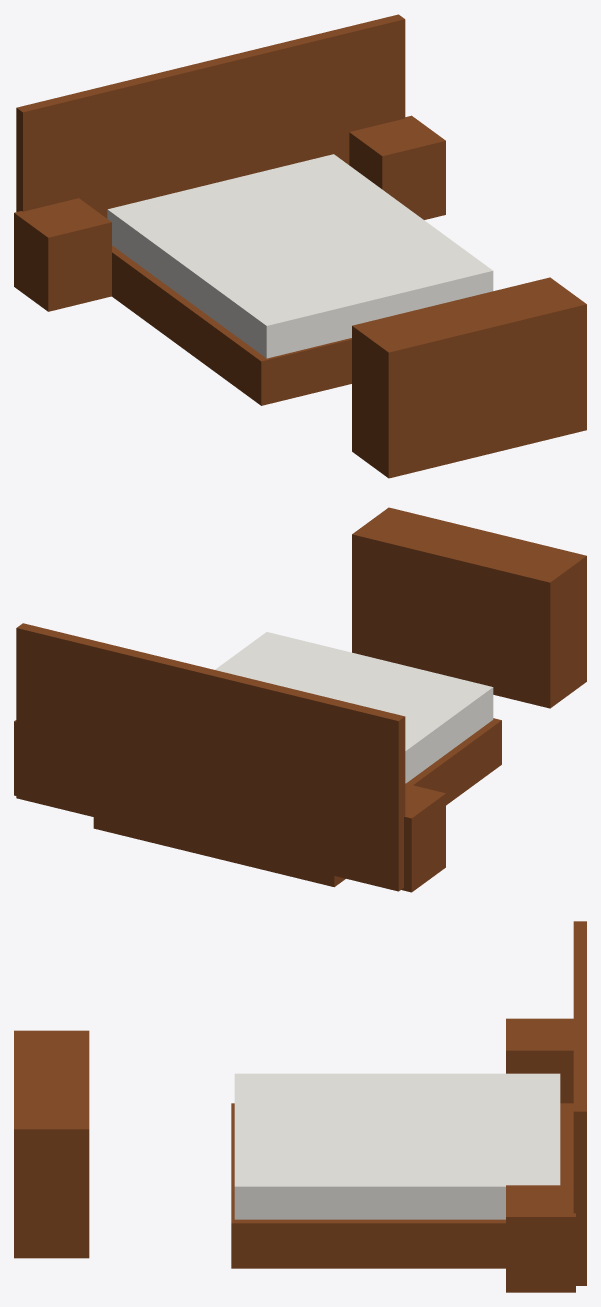
Rendered from recamara-bulgaria.glb.
The picture shows the model from 3 angles, top to bottom: view 1: azimuth 30°, elevation 25°; view 2: azimuth 150°, elevation 25°; view 3: azimuth 270°, elevation 25°; orthographic projection. The views are drawn at different scales.
Visible parts, largest first — view 1: recamara-bulgaria; view 2: recamara-bulgaria; view 3: recamara-bulgaria.
Part boxes in pixels (bbox=[...]): recamara-bulgaria: bbox=[14, 14, 586, 478]; recamara-bulgaria: bbox=[14, 507, 586, 892]; recamara-bulgaria: bbox=[14, 921, 586, 1292].
Bounding box in the file's own units: 2.81 × 1.27 × 3.43.
